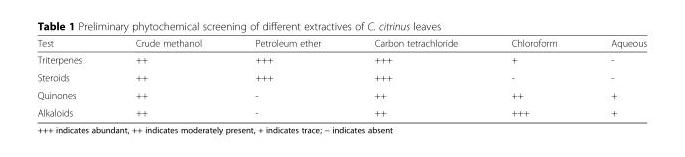table: (36, 37, 646, 118)
table column: (347, 37, 483, 118), (227, 37, 347, 118), (108, 37, 227, 118), (483, 37, 583, 118), (36, 37, 108, 118), (583, 37, 646, 118)
table column header: (36, 37, 646, 51)
table row: (36, 85, 646, 103), (36, 51, 646, 68), (36, 68, 646, 85), (36, 103, 646, 118), (36, 37, 646, 51)
